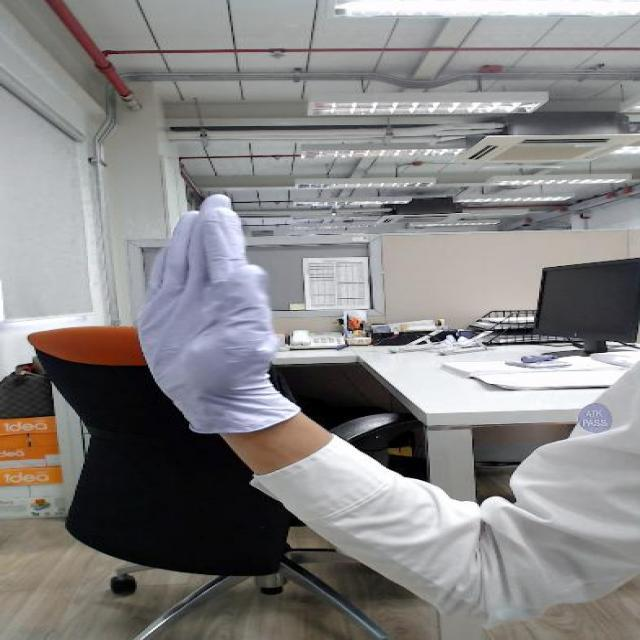with_gloves: (85, 184, 332, 412)
